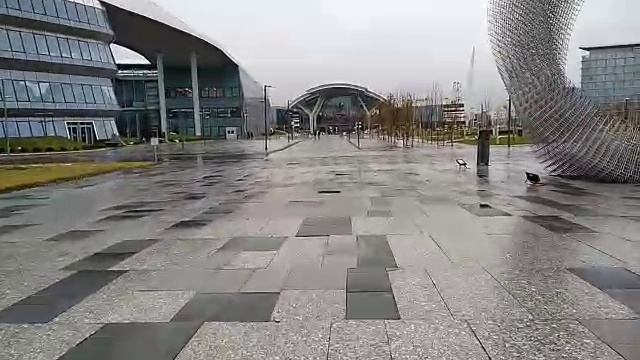mega: (286, 79, 400, 147)
